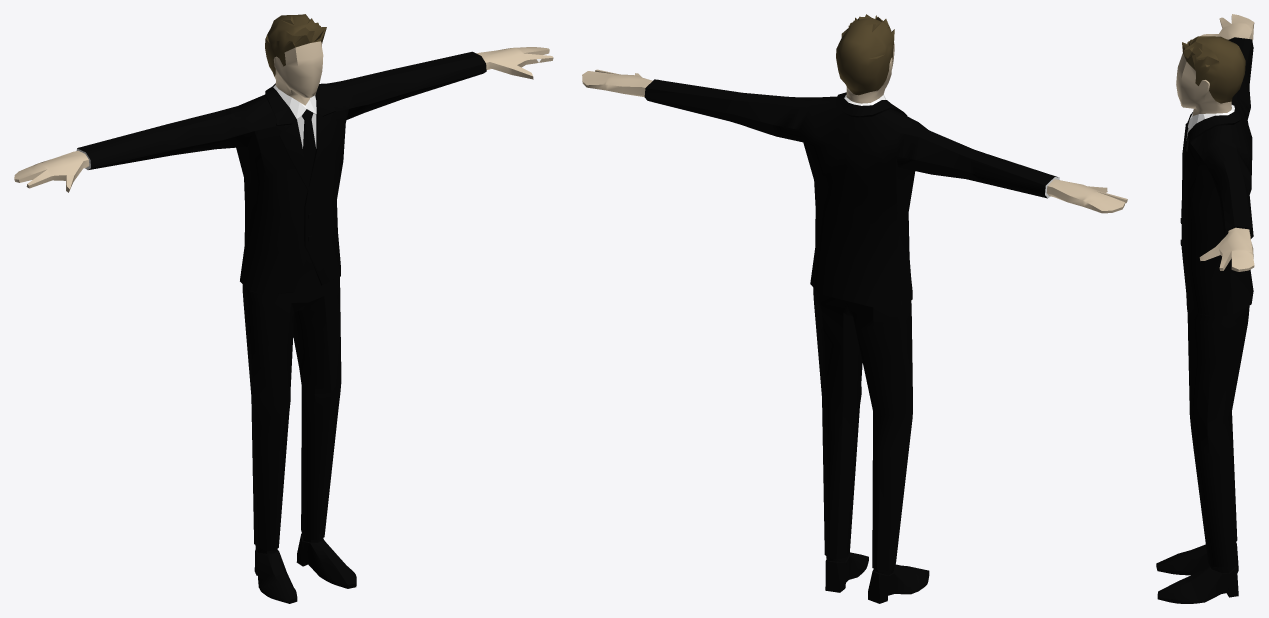
Rendered from Pursuer.glb.
3 renders of one model, left to right at view 1: azimuth 30°, elevation 25°; view 2: azimuth 150°, elevation 25°; view 3: azimuth 270°, elevation 25°, orthographic. The views are drawn at different scales.
Visible parts, largest first — view 1: Object_3, Object_6, Object_5, Object_2; view 2: Object_3, Object_5, Object_6; view 3: Object_3, Object_6, Object_5, Object_2.
Boxes of the visible parts, <box> form: Object_3: <box>77,51,486,603</box>; Object_6: <box>14,41,553,192</box>; Object_5: <box>265,14,326,76</box>; Object_2: <box>273,85,316,148</box>; Object_3: <box>644,79,1057,603</box>; Object_5: <box>836,14,894,95</box>; Object_6: <box>582,42,1127,213</box>; Object_3: <box>1156,37,1253,603</box>; Object_6: <box>1176,14,1254,271</box>; Object_5: <box>1182,36,1245,103</box>; Object_2: <box>1186,105,1234,140</box>.
Bounding box in the file's own units: 192 × 192 × 31.22.
